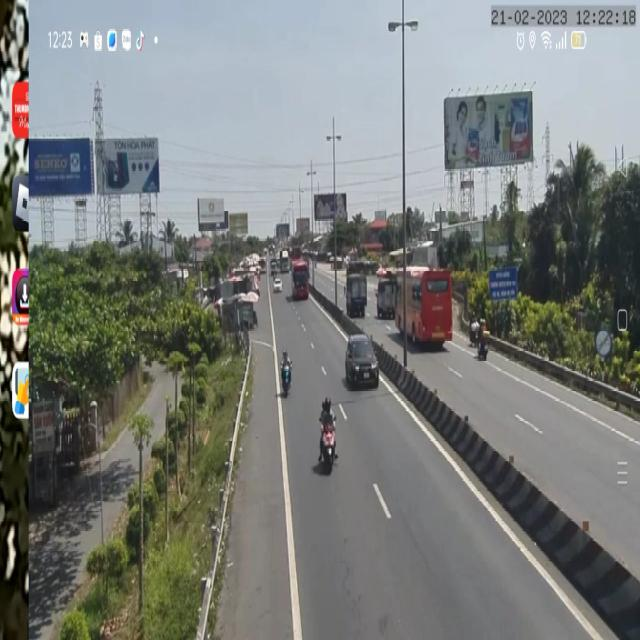bus: (399, 270, 454, 352), (288, 255, 309, 301)
car: (345, 336, 382, 392), (272, 278, 283, 292)
motorbike: (317, 394, 339, 476), (280, 345, 292, 395), (478, 318, 490, 361), (468, 311, 479, 349)
truck: (344, 268, 368, 316), (376, 275, 396, 324)
